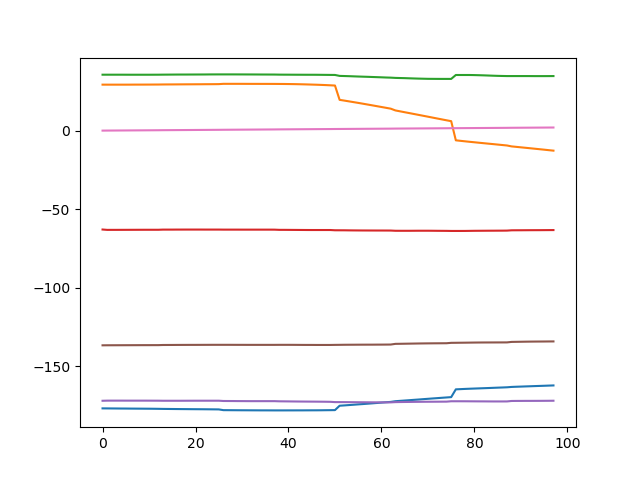Too_Slow: (2, 1, 624, 480)
